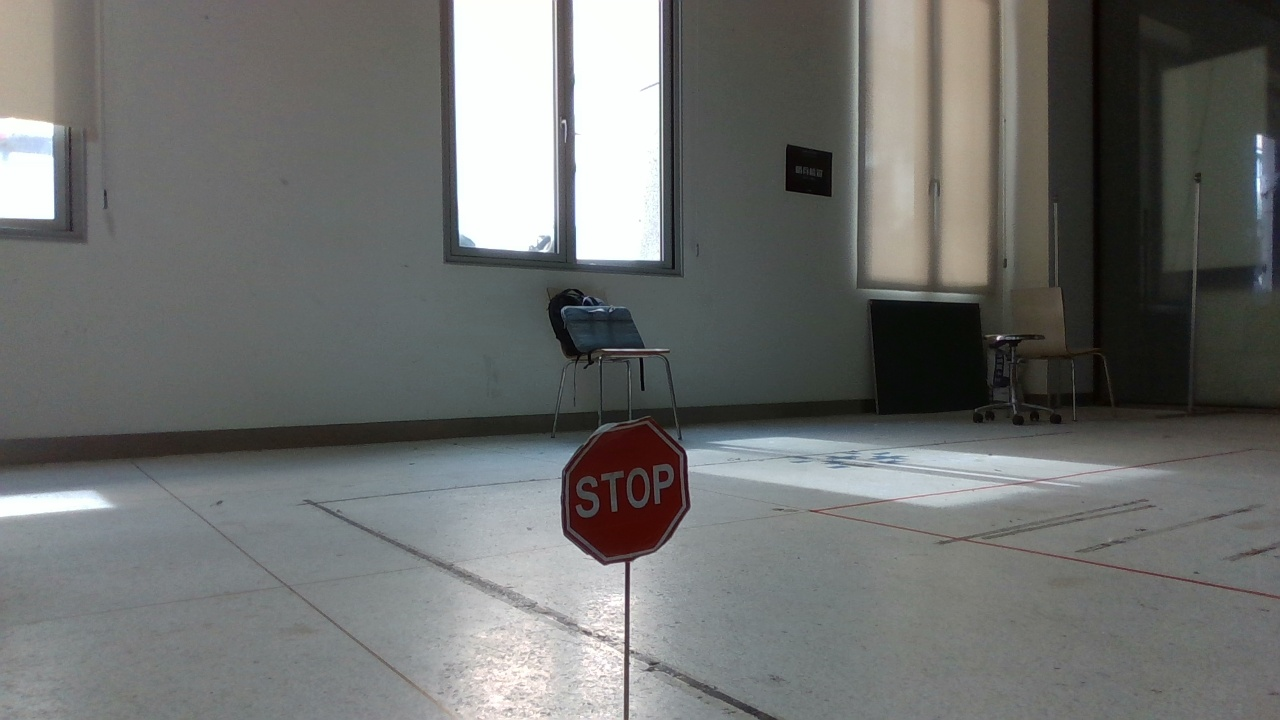stop_sign: (546, 409, 719, 720)
